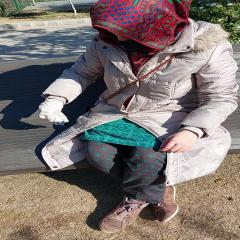gloved: (39, 101, 67, 122)
not-gloved: (162, 131, 196, 154)
